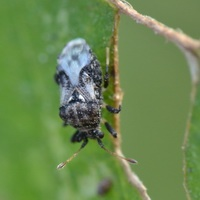insect: (55, 38, 135, 168)
